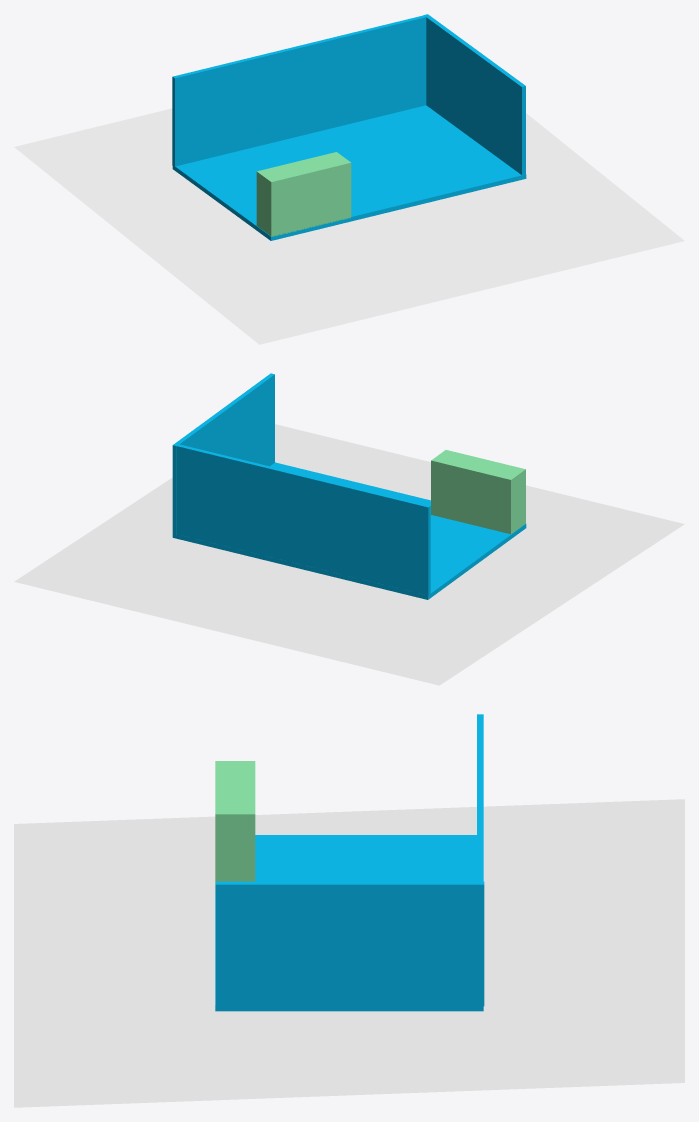
Rendered from stand1.gltf.
3 renders of one model, top to bottom at view 1: azimuth 30°, elevation 25°; view 2: azimuth 150°, elevation 25°; view 3: azimuth 270°, elevation 25°, orthographic. The views are drawn at different scales.
Parts seen in each view (by area): view 1: Plane, wall_back, floor, wall_side, kontor; view 2: Plane, wall_back, kontor, floor, wall_side; view 3: Plane, wall_side, floor, kontor, wall_back.
Part boxes in pixels (x1,y1,x2,y2): Plane: (14,108,684,344); wall_back: (172,15,429,167); floor: (172,105,526,240); wall_side: (424,14,525,174); kontor: (256,152,351,236); Plane: (14,424,684,685); wall_back: (174,444,430,596); kontor: (431,450,525,534); floor: (172,462,526,599); wall_side: (172,373,274,535); Plane: (14,799,684,1107); wall_side: (215,881,484,1006); floor: (215,835,483,1011); kontor: (215,761,255,888); wall_back: (477,714,483,881).
Bounding box in the file's own units: 10 × 2.73 × 9.99.
